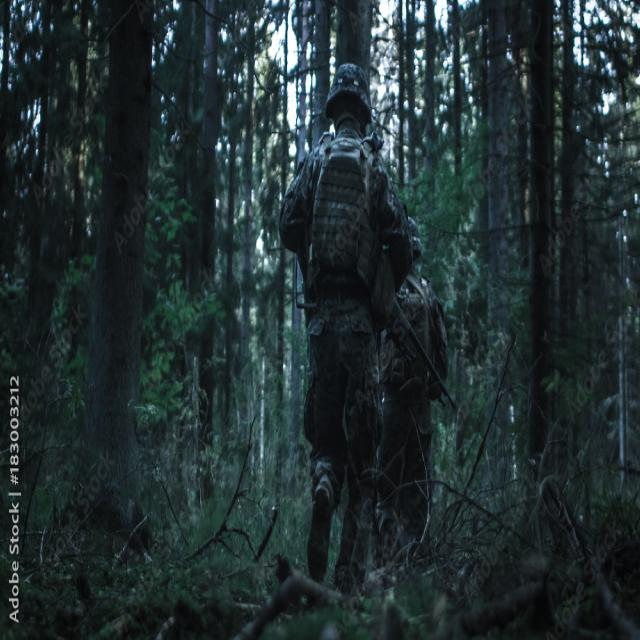Forest: (0, 0, 640, 640)
Militant: (277, 44, 388, 596), (375, 168, 460, 574)
